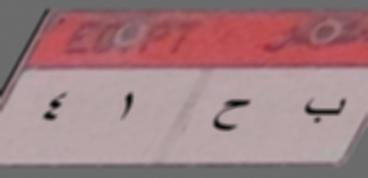1: (112, 84, 143, 124)
4: (42, 80, 70, 132)
7aa: (211, 90, 250, 136)
baa: (300, 87, 349, 127)
